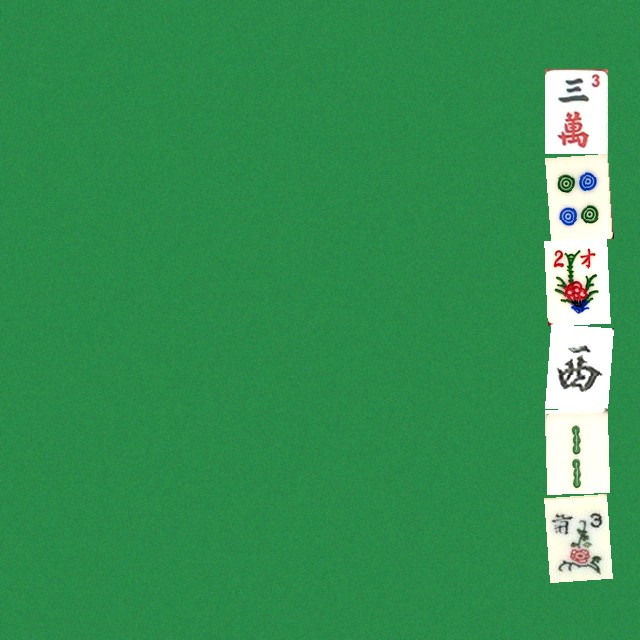tile: (544, 68, 607, 153), (544, 153, 607, 238), (544, 238, 607, 323), (544, 323, 607, 408), (544, 408, 607, 493), (544, 493, 607, 578)
